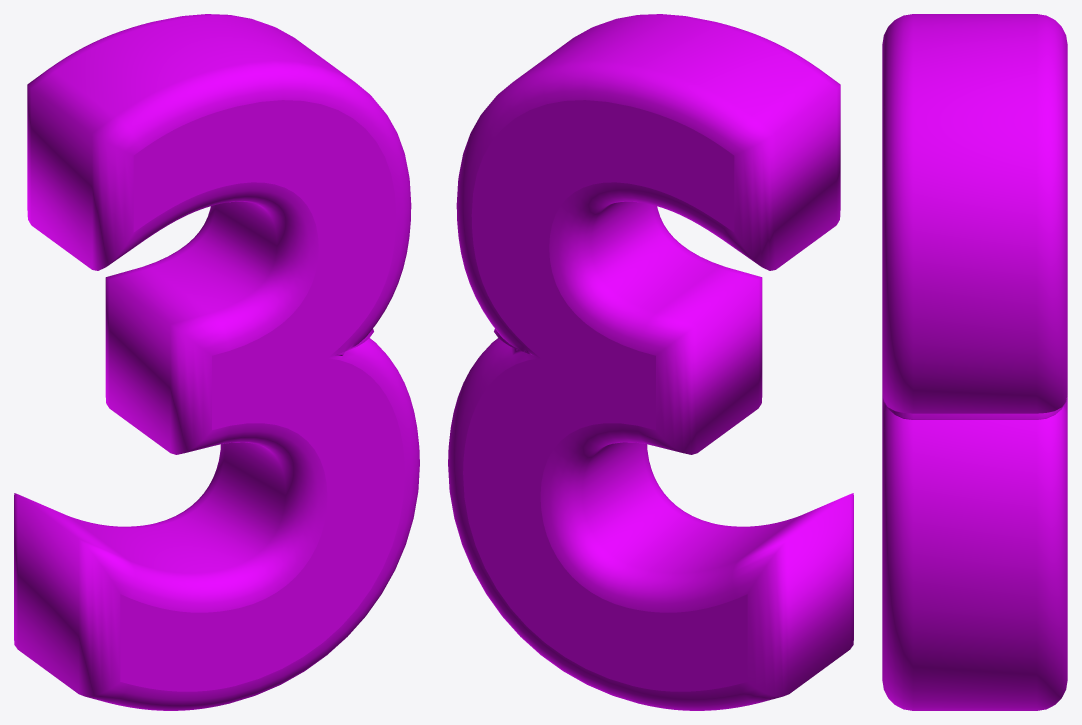
The picture shows the model from 3 angles, left to right: view 1: azimuth 30°, elevation 25°; view 2: azimuth 150°, elevation 25°; view 3: azimuth 270°, elevation 25°; orthographic projection.
Parts seen in each view (by area): view 1: Text; view 2: Text; view 3: Text.
Part boxes in pixels (x1,y1,x2,y2): Text: [14, 14, 419, 710]; Text: [448, 14, 853, 710]; Text: [882, 14, 1067, 710].
Size of the model in its own units: 1.28 by 2.3 by 0.6.
